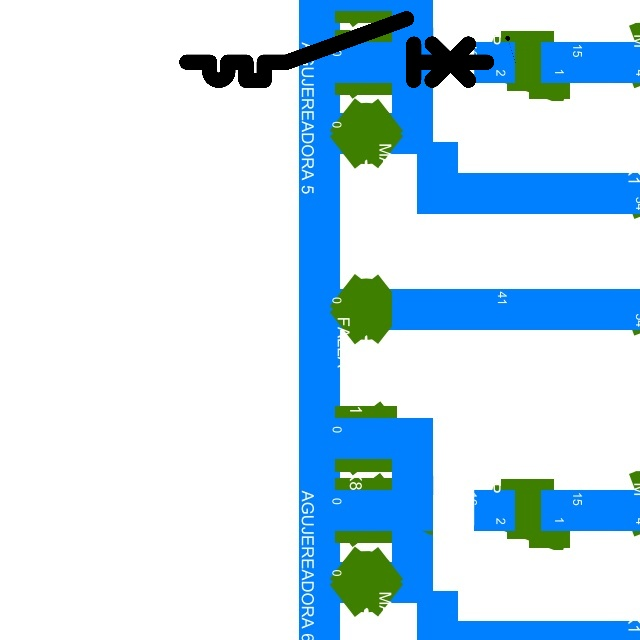interruptor_termomagnetico: (179, 11, 495, 88)
